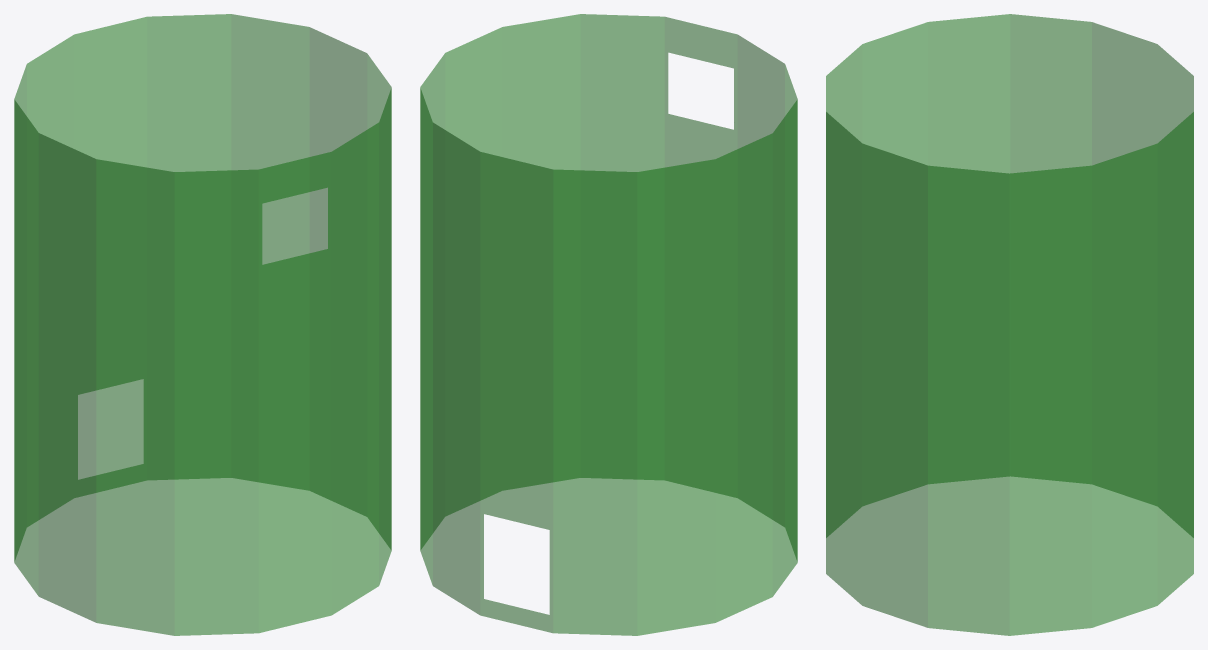
Rendered from D11_wall01.obj.
The picture shows the model from 3 angles, left to right: view 1: azimuth 30°, elevation 25°; view 2: azimuth 150°, elevation 25°; view 3: azimuth 270°, elevation 25°; orthographic projection.
Size of the model in its own units: 39.21 by 53 by 38.21.
